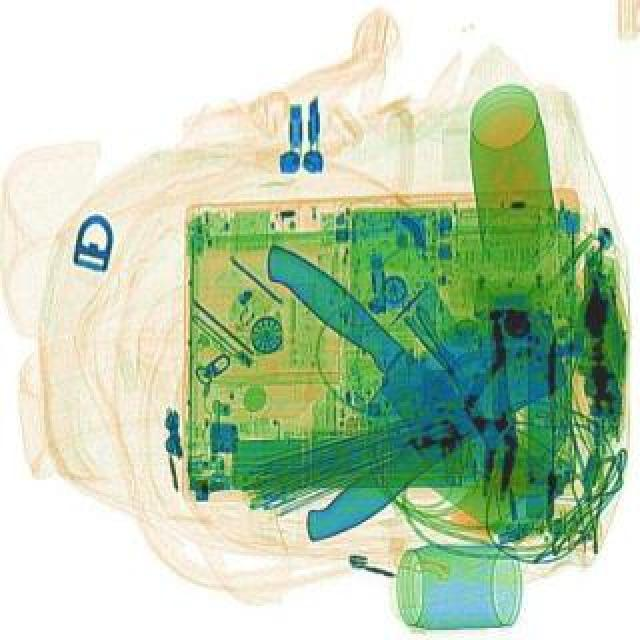knife: (212, 230, 560, 536), (252, 290, 576, 550)
